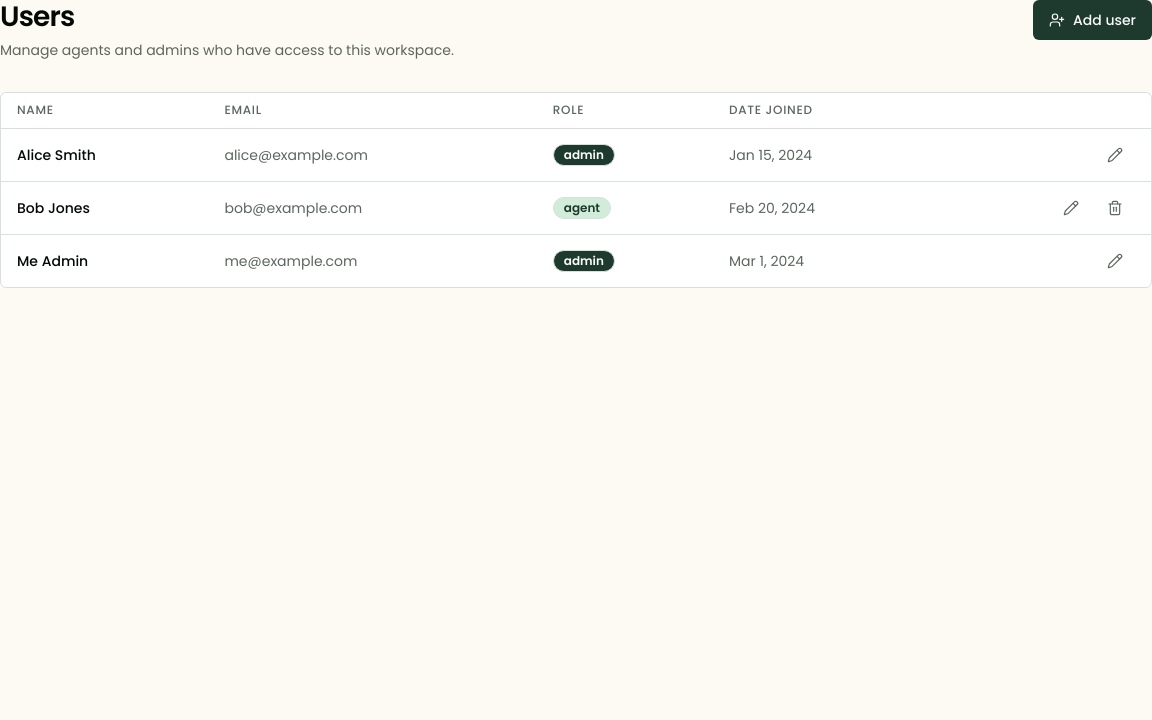
UsersPage — add user dialog › closes the dialog when the close button is clicked
Check: the text "Alice Smith" is shown, box top-left (1, 129), bottom-right (208, 182)
Step 1. Click the button "Add user" → (1092, 20), box top-left (1033, 0), bottom-right (1151, 40)
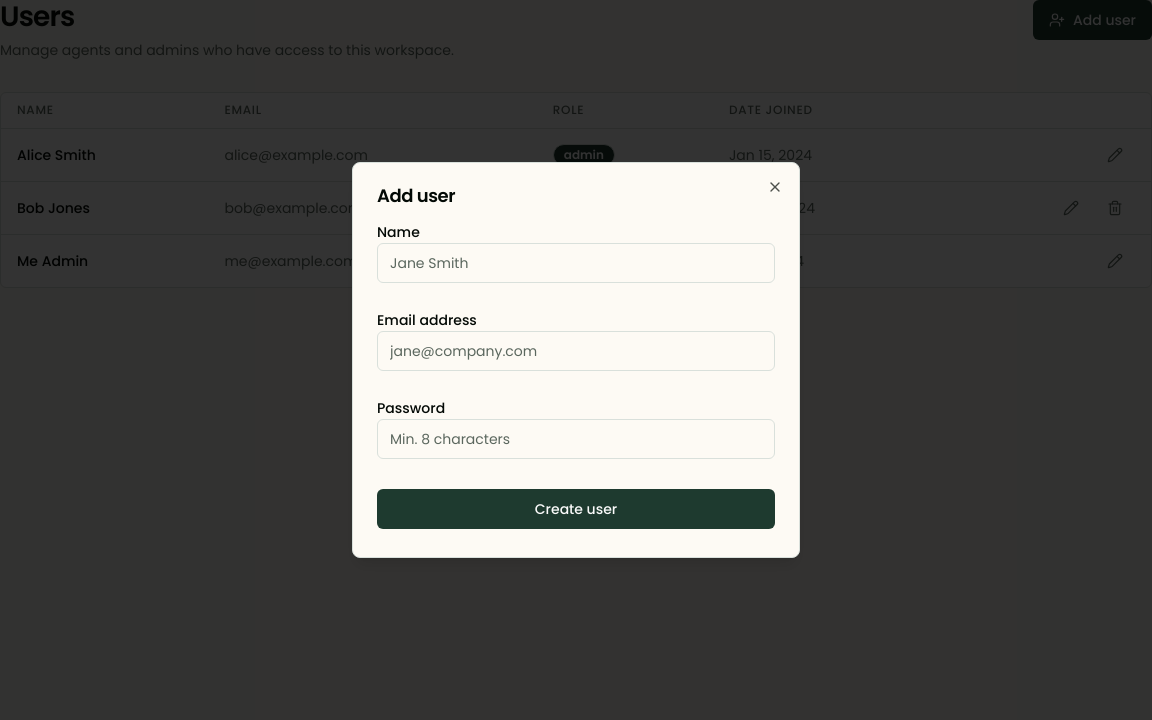
Check: the dialog is shown, box top-left (352, 162), bottom-right (800, 558)
Step 2. Click the button named "close" → (775, 187), box top-left (767, 179), bottom-right (783, 195)
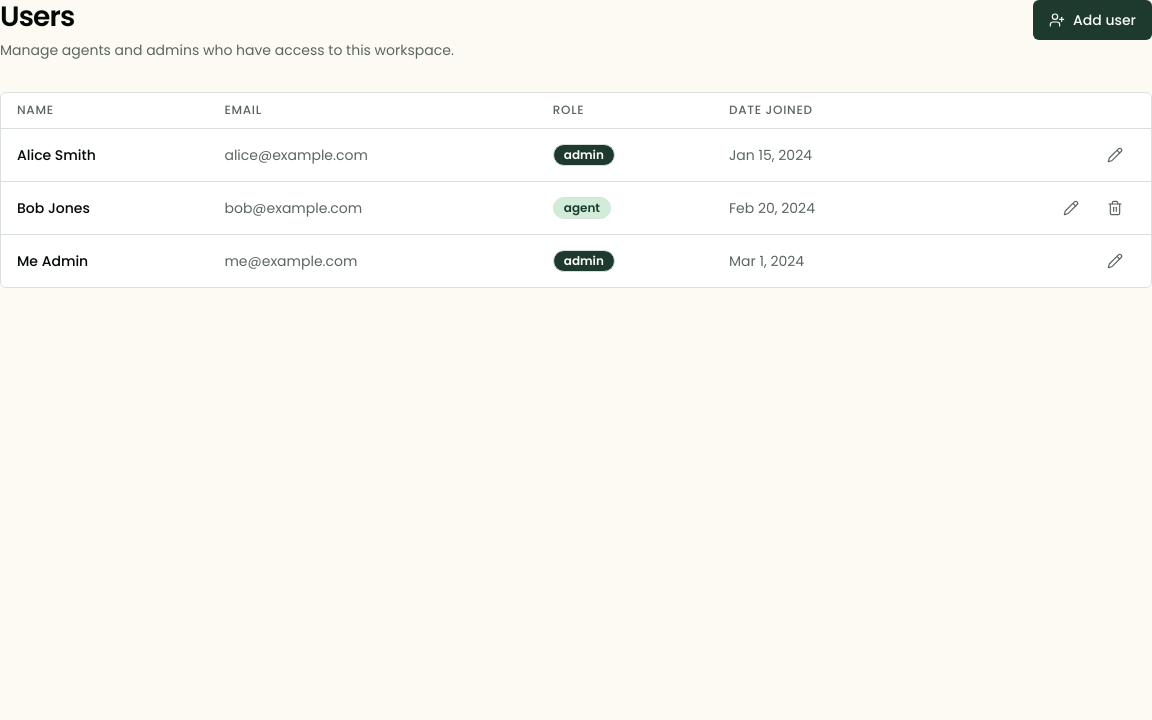
Check: the dialog is gone
